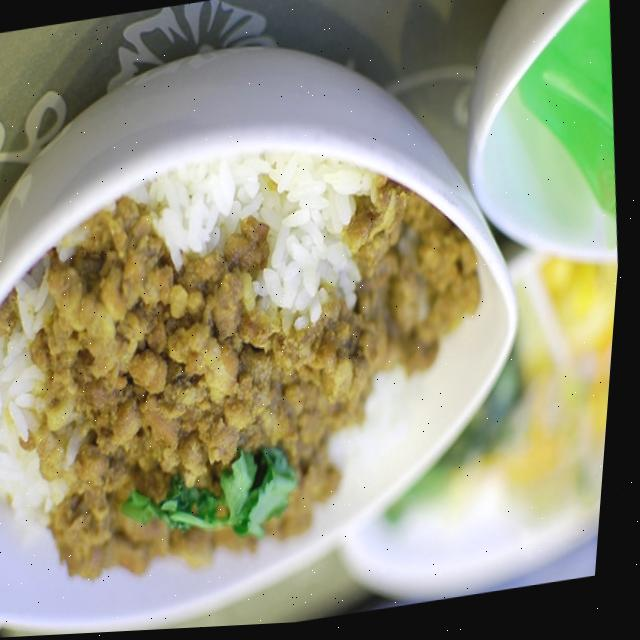猪肉菜式: (0, 75, 520, 617)
